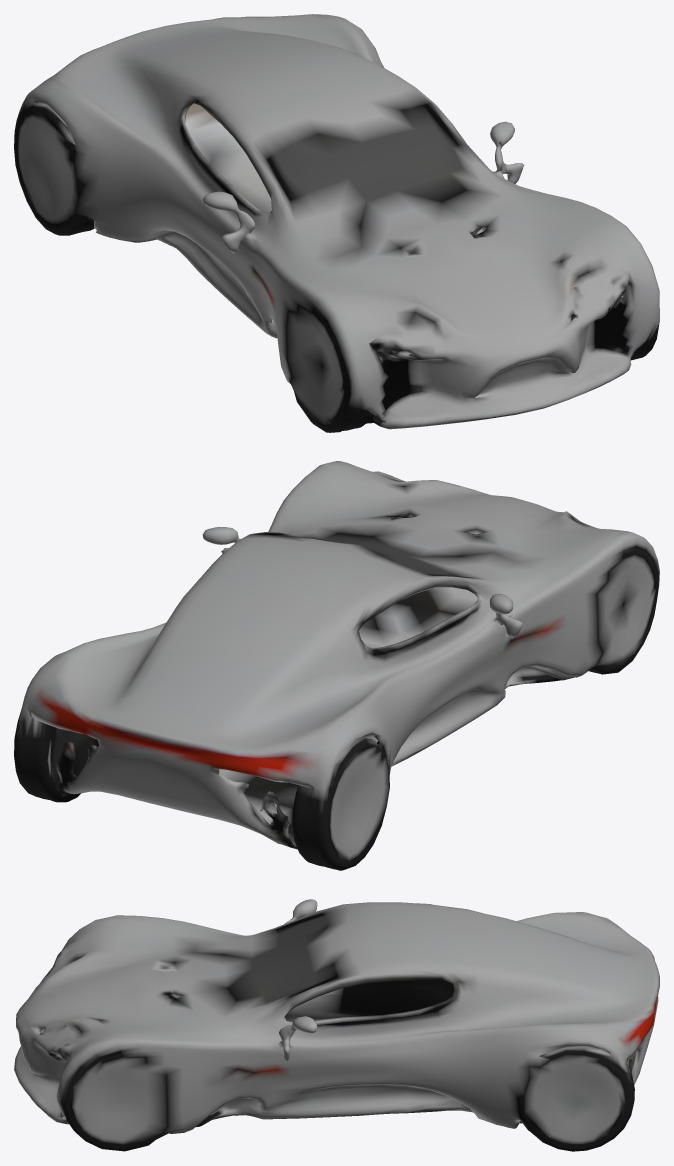
Rendered from 6451005-silver-sports-car-10k.glb.
The picture shows the model from 3 angles, top to bottom: view 1: azimuth 30°, elevation 25°; view 2: azimuth 150°, elevation 25°; view 3: azimuth 270°, elevation 25°; orthographic projection. The views are drawn at different scales.
Visible parts, largest first — view 1: Retopo_neural_node_0d306645-5f71-481e-be27-567b109f7078; view 2: Retopo_neural_node_0d306645-5f71-481e-be27-567b109f7078; view 3: Retopo_neural_node_0d306645-5f71-481e-be27-567b109f7078.
Boxes of the visible parts, x1,y1,x2,y2 form: Retopo_neural_node_0d306645-5f71-481e-be27-567b109f7078: (14, 14, 659, 432); Retopo_neural_node_0d306645-5f71-481e-be27-567b109f7078: (14, 461, 659, 870); Retopo_neural_node_0d306645-5f71-481e-be27-567b109f7078: (14, 899, 659, 1151).
Size of the model in its own units: 0.4491 by 0.2573 by 0.9449.
